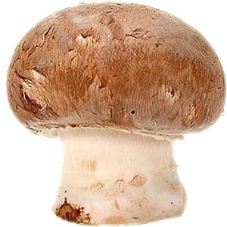mushroom: (8, 1, 225, 221)
